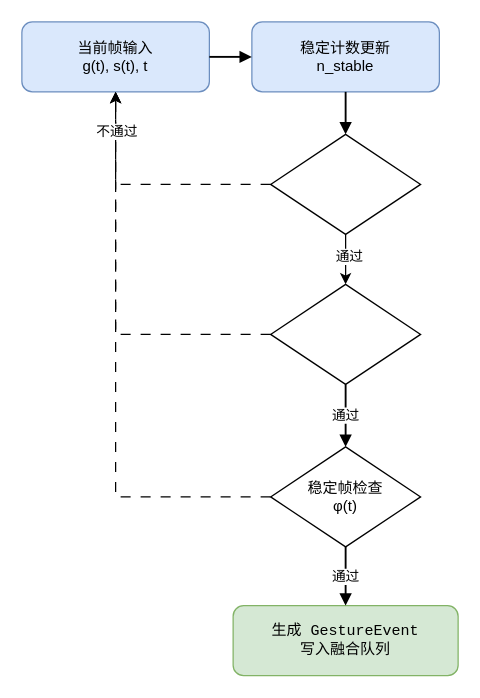
The diagram is 480 pixels wide and 698 high, and some of its shapes have lost their labels. The centre of each missing label's shape, as x and y in pixels:
"冷却窗检查 ψ(t)" goes at (x=345, y=333).
"边沿候选 e(t)" goes at (x=345, y=183).
